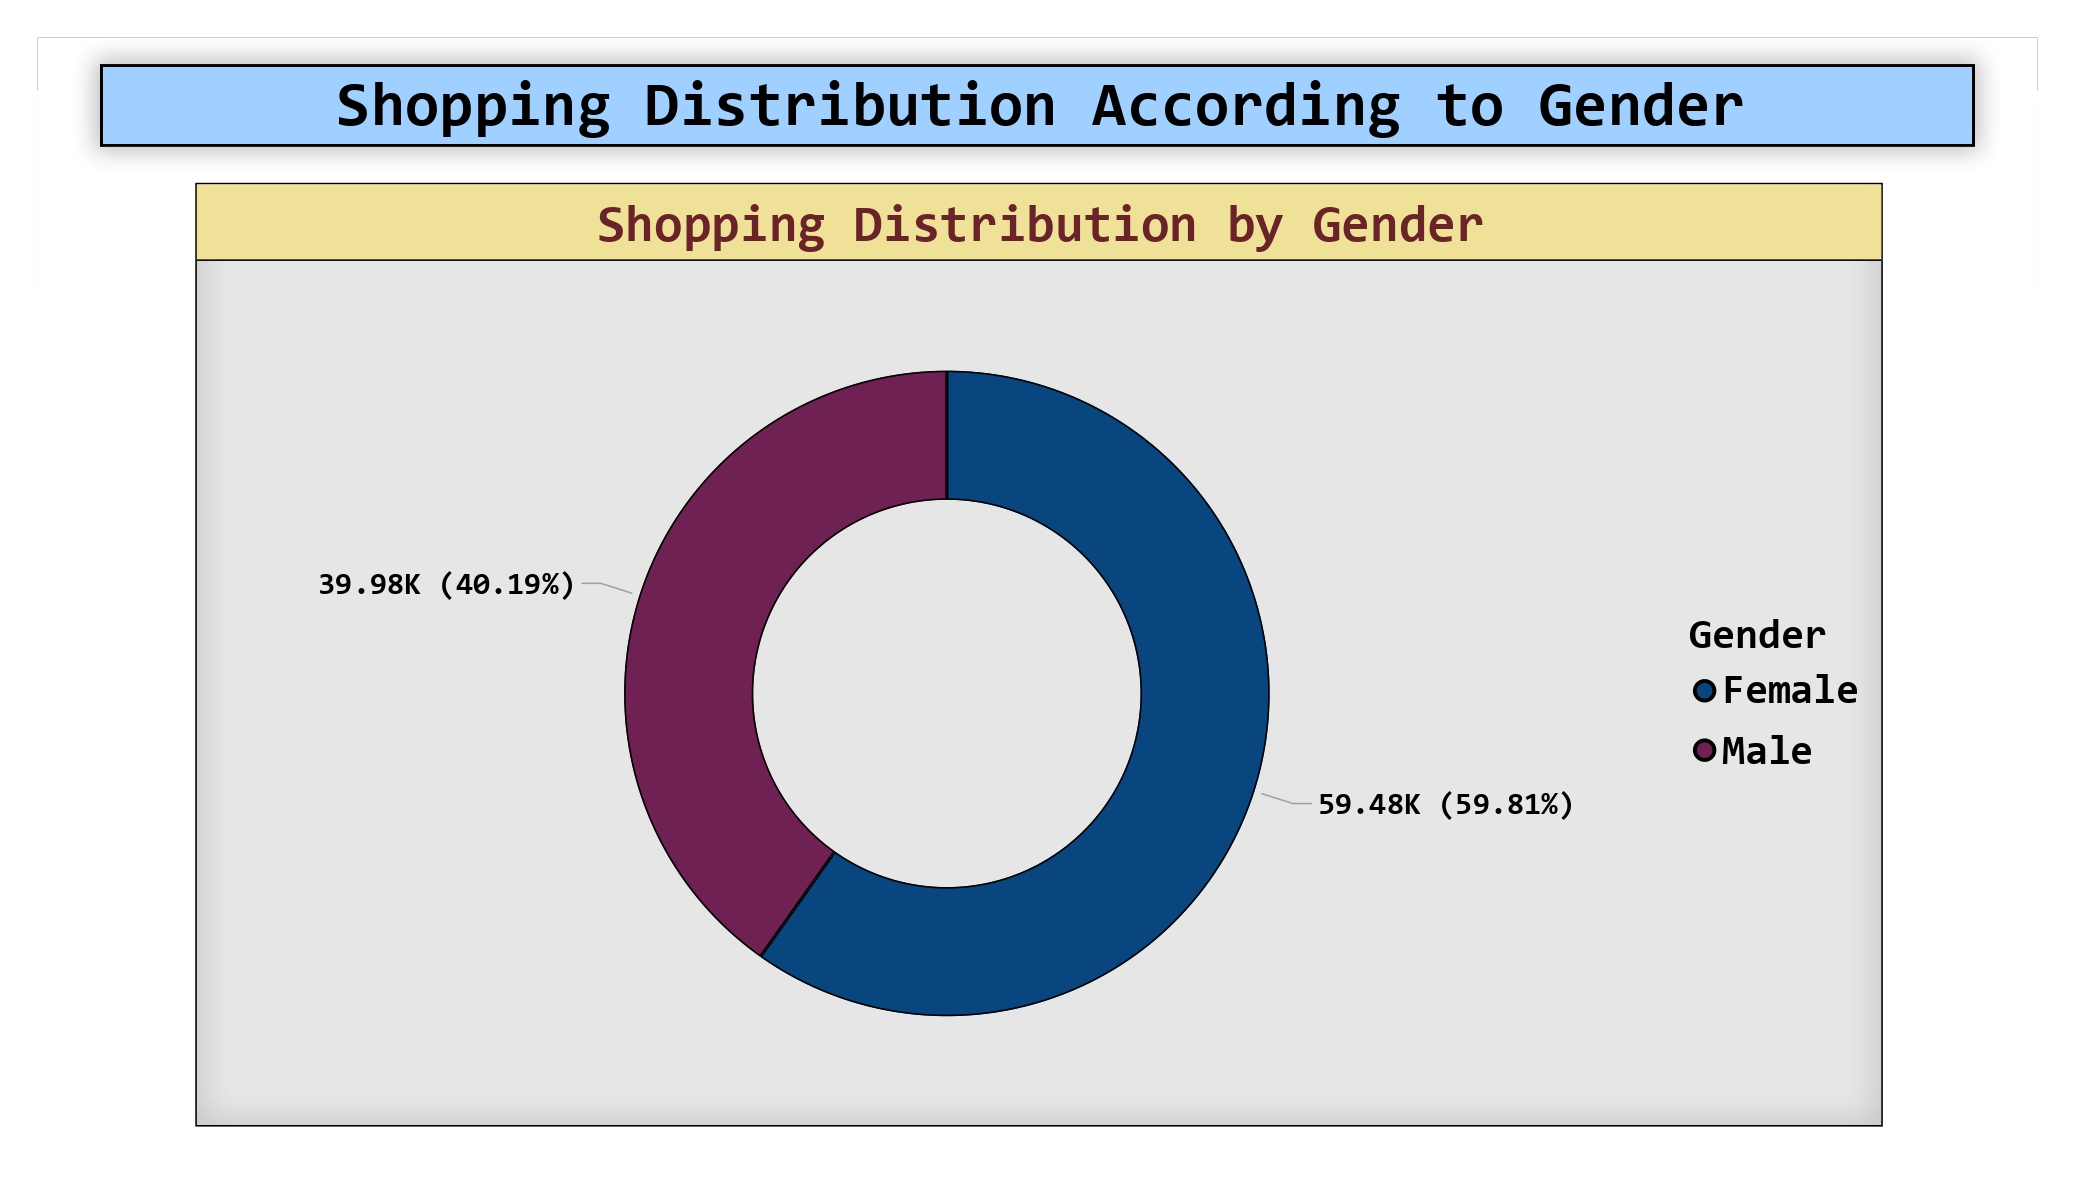

The dashboard page shown, as its layout file describes it:
{"tool":"powerbi","page":{"name":"1","canvas":[1280,720],"ordinal":0},"visuals":[{"type":"donutChart","title":"Shopping Distribution by Gender","fields":{"Category":["customer.gender"],"Y":["CountNonNull(customer.invoice_no)"]},"box":[101.5,92.9,1079.8,604.1],"z":0},{"type":"textbox","title":"Shopping Distribution According to Gender","box":[40.4,17.1,1199.6,52.6],"z":1000}]}

Visuals, with their boxes on the page's 1280x720 design canvas (x1, y1, x2, y2). These are canvas units, not pixel positions in the 2075x1200 screenshot, which may show the page scaled, cropped or inside an application window:
"Shopping Distribution by Gender" donutChart: select_region(102, 93, 1181, 697)
"Shopping Distribution According to Gender" textbox: select_region(40, 17, 1240, 70)
